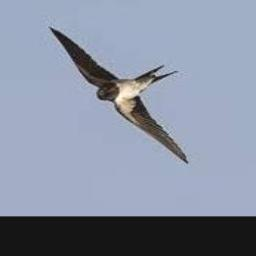Swallow: (49, 25, 191, 165)
